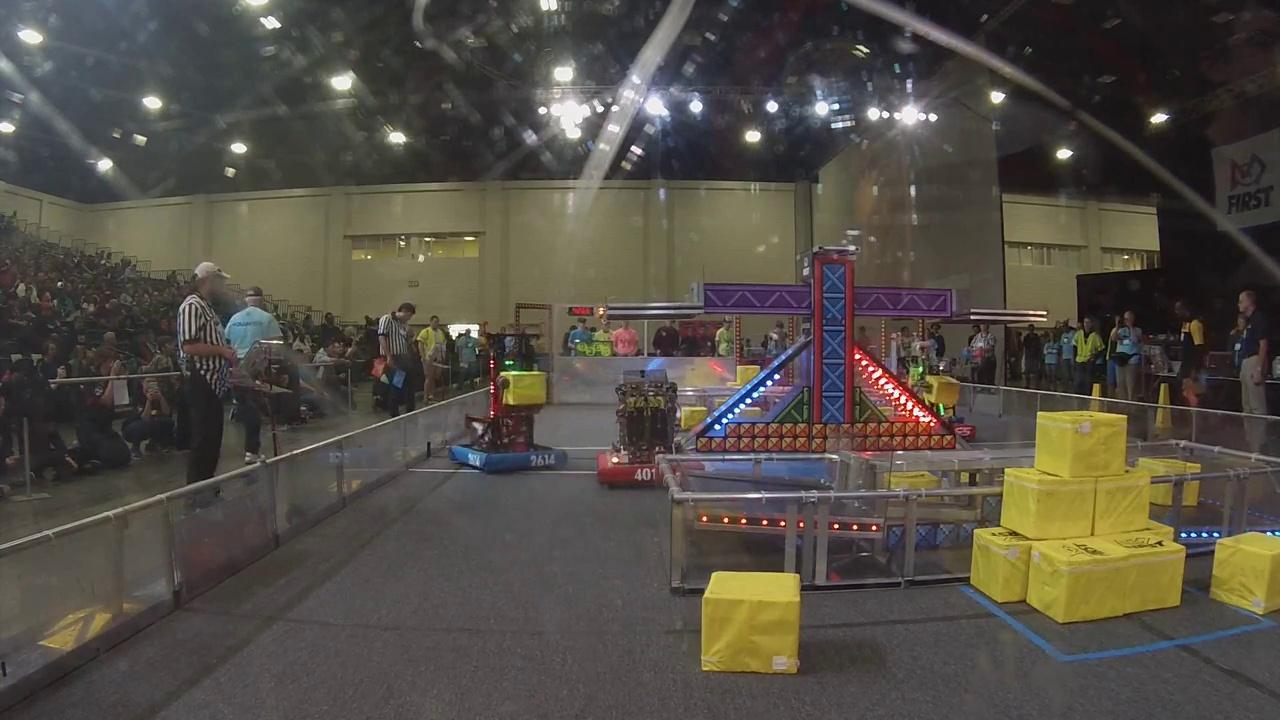robot: (443, 331, 571, 474), (593, 367, 706, 485)
